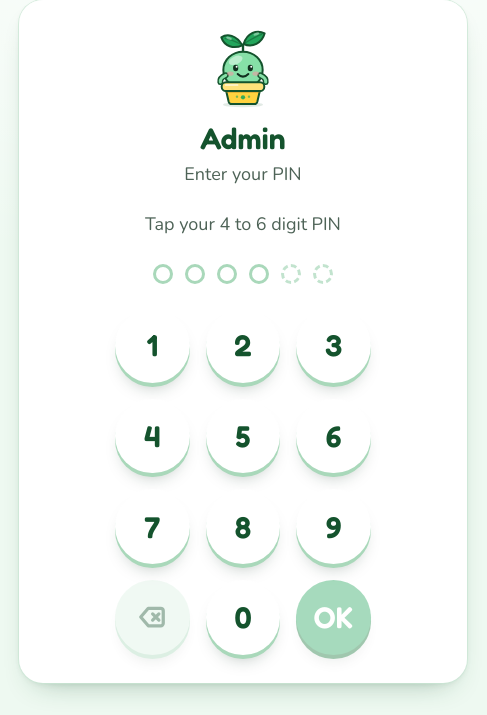
Test: PinGate › a wrong PIN says 'Not quite, try again' and clears the dots
The image size is (487, 715).
Click the button "1". click: [152, 345]
box: [115, 308, 190, 383]
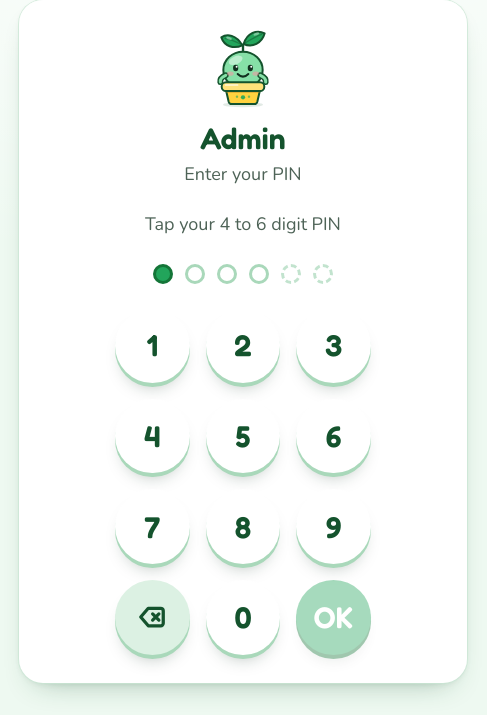
Click the button "1". click: [152, 345]
box: [115, 308, 190, 383]
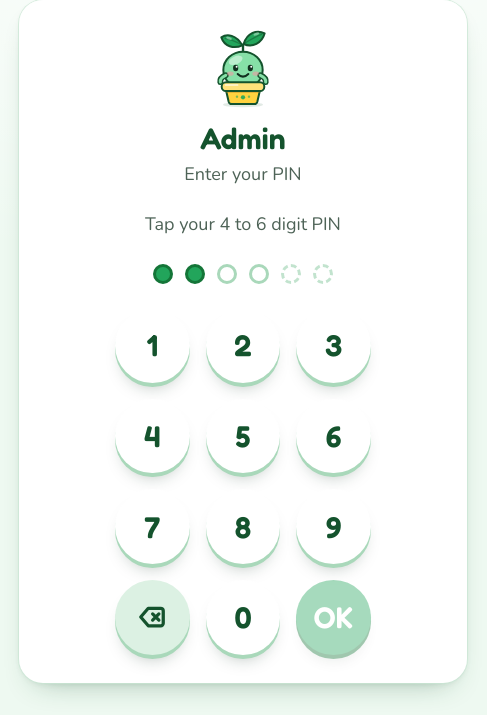
Click the button "1". click: [152, 345]
box: [115, 308, 190, 383]
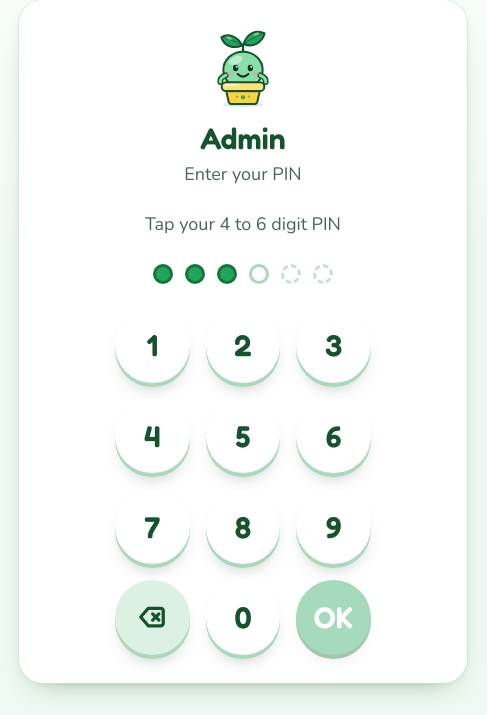
Click the button "1". click: [152, 345]
box: [115, 308, 190, 383]
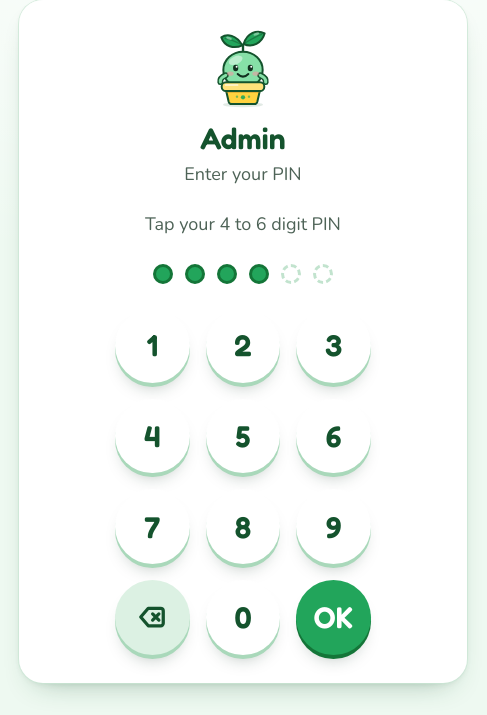
Click the button "OK". click: [334, 617]
box: [296, 580, 371, 655]
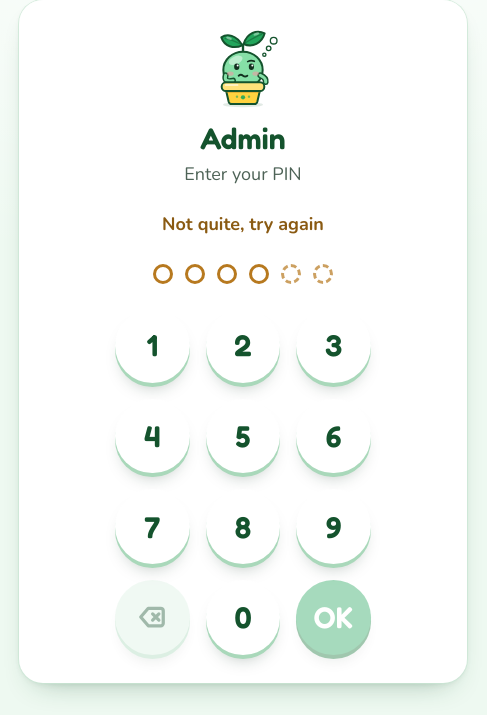
Result: the text "Not quite, try again" is shown at [162, 210, 324, 238]
